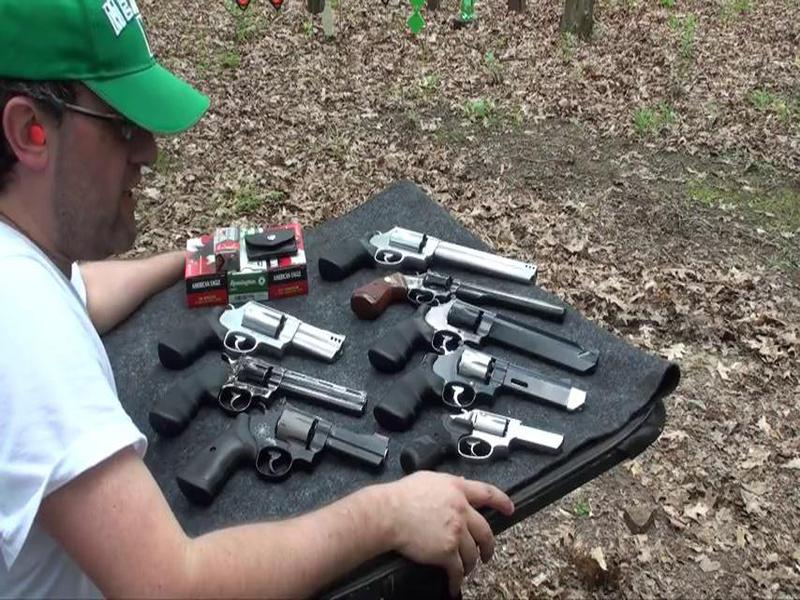Revolver: (367, 341, 597, 426)
